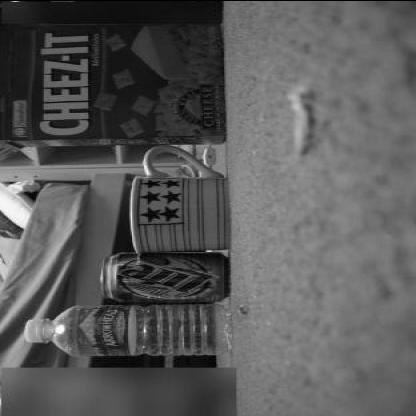alumunium_can: (101, 250, 231, 302)
objects: (132, 144, 232, 254)
plastic_bottles: (27, 302, 230, 356)
